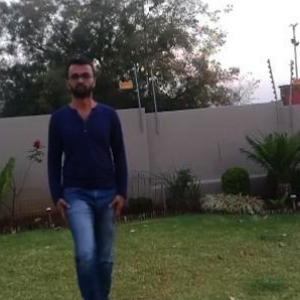follow: (54, 67, 127, 295)
